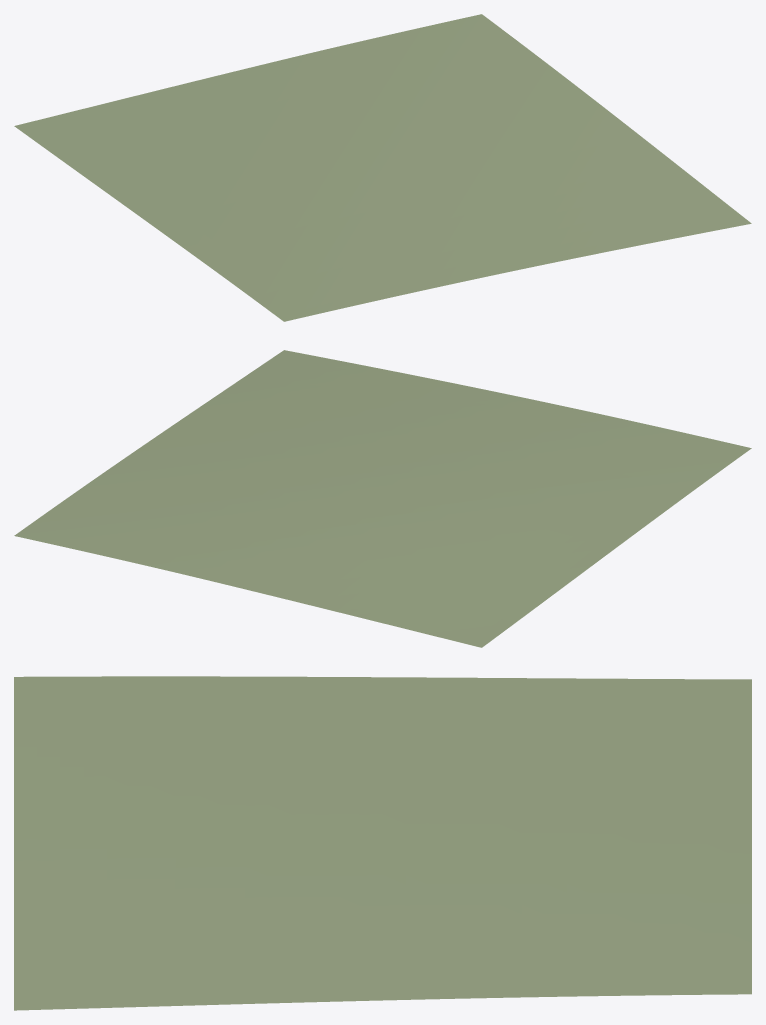
File: desert-1-19.glb
3 renders of one model, top to bottom at view 1: azimuth 30°, elevation 25°; view 2: azimuth 150°, elevation 25°; view 3: azimuth 270°, elevation 25°, orthographic. The views are drawn at different scales.
Parts seen in each view (by area): view 1: desert-1-19; view 2: desert-1-19; view 3: desert-1-19.
Part boxes in pixels (x1=…): desert-1-19: x1=14, y1=14, x2=751, y2=321; desert-1-19: x1=14, y1=350, x2=751, y2=647; desert-1-19: x1=14, y1=676, x2=751, y2=1010.
Size of the model in its own units: 512 by 17.05 by 512.
